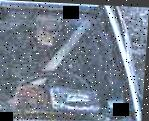seatbelt: (43, 11, 89, 75)
